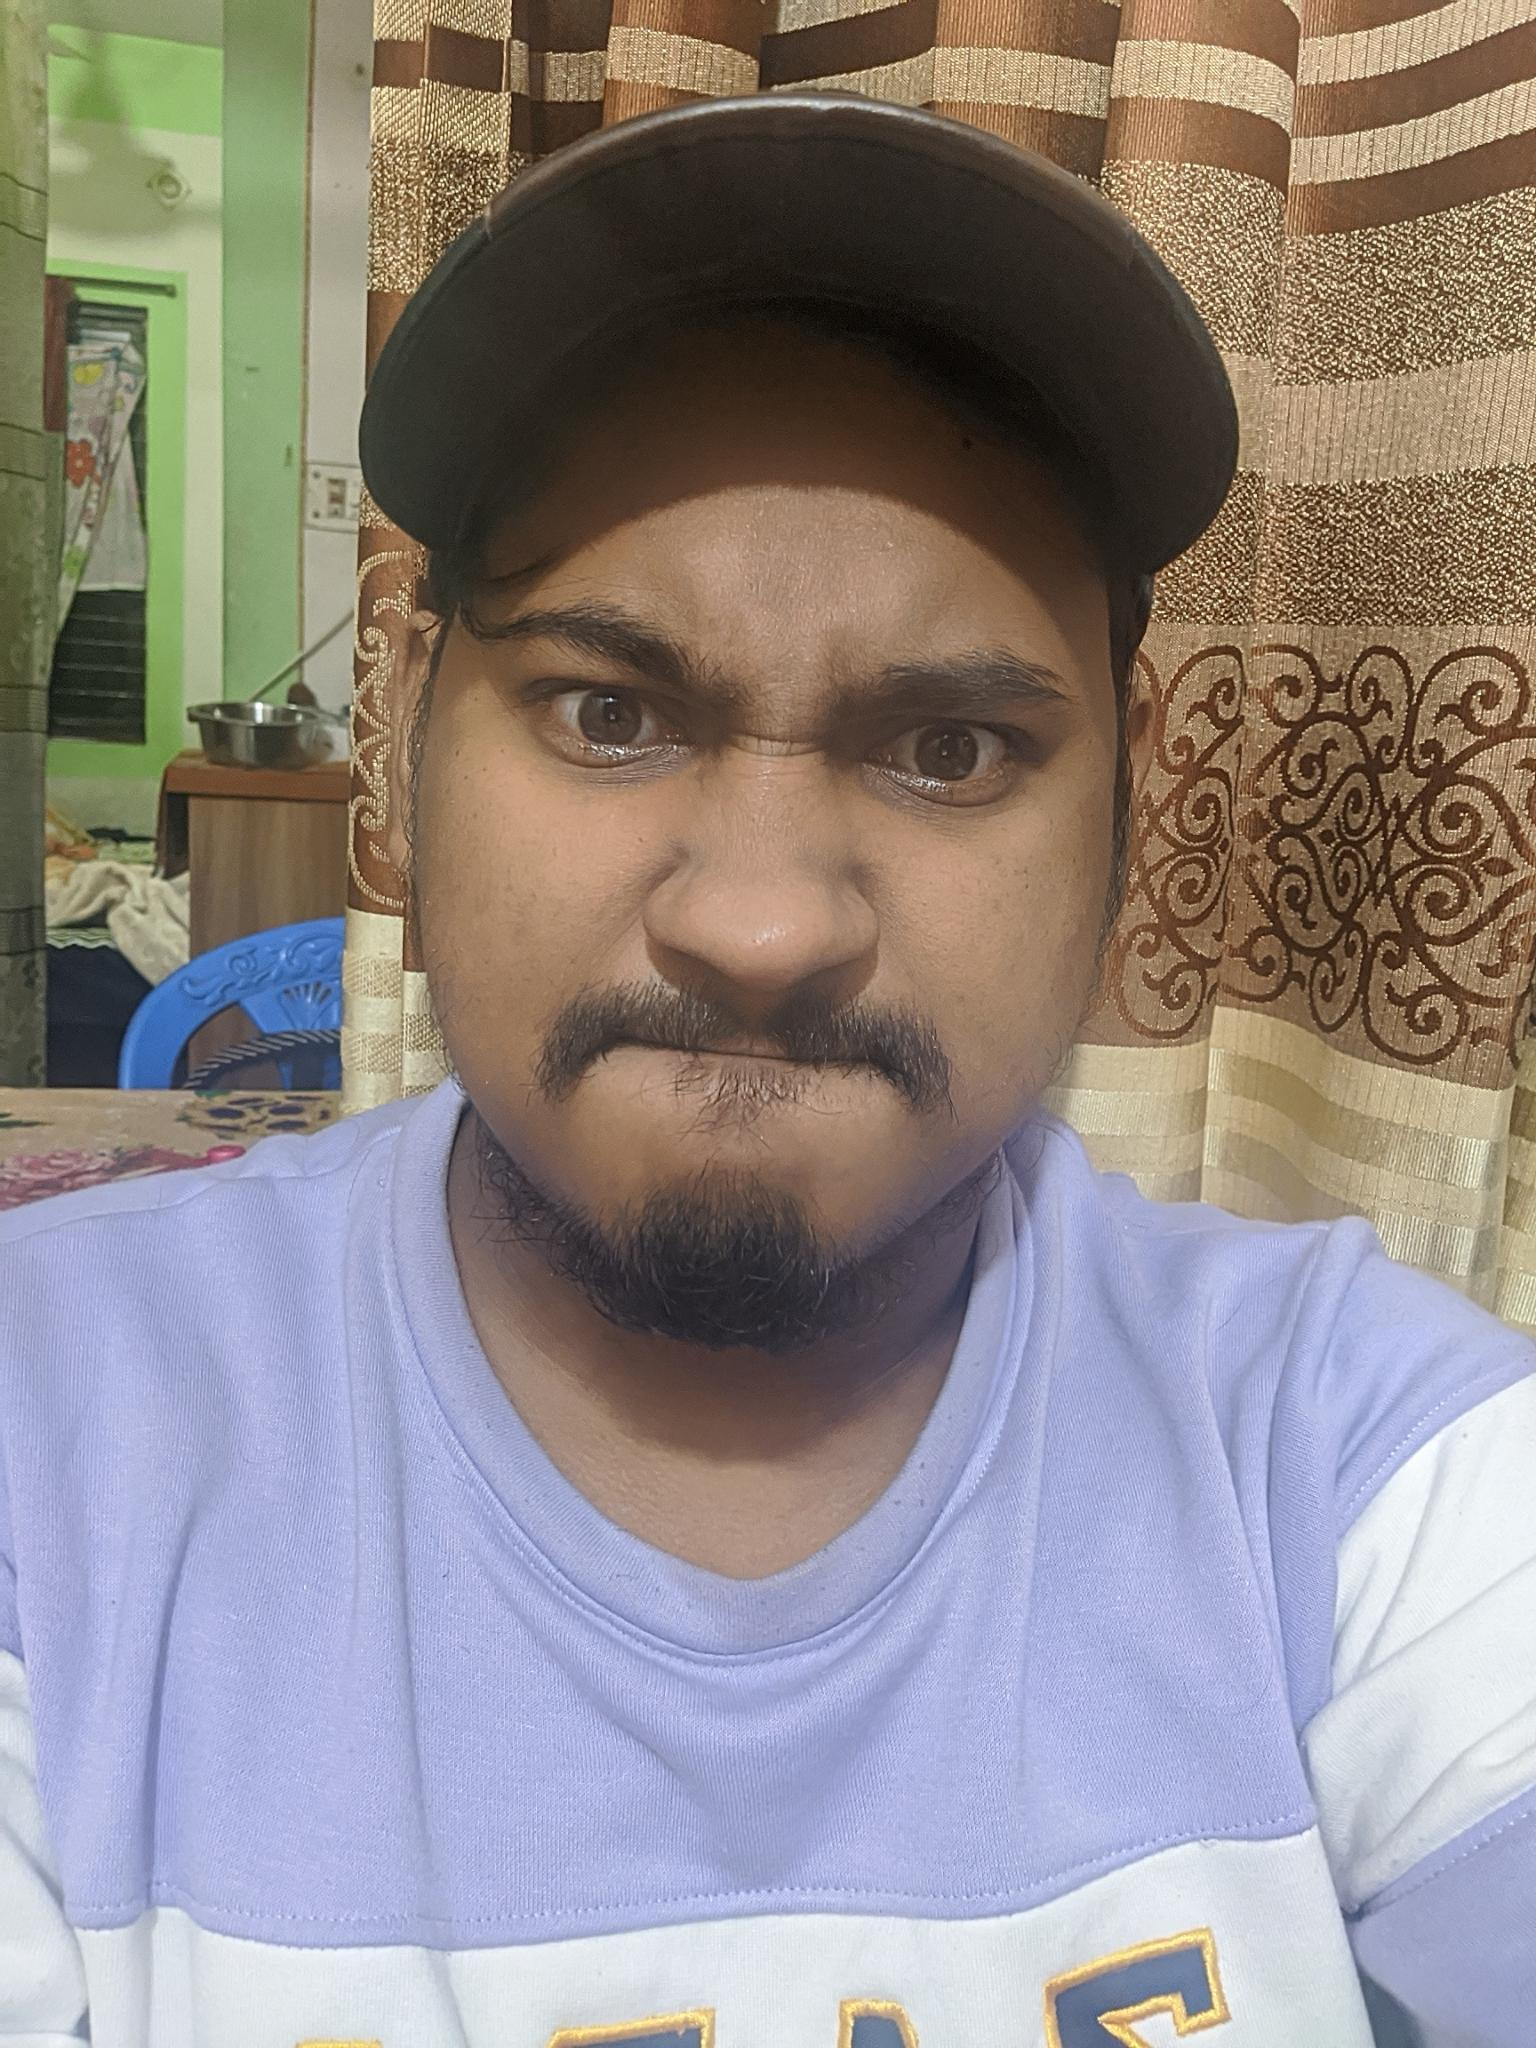Angry: (428, 508, 1123, 1269)
